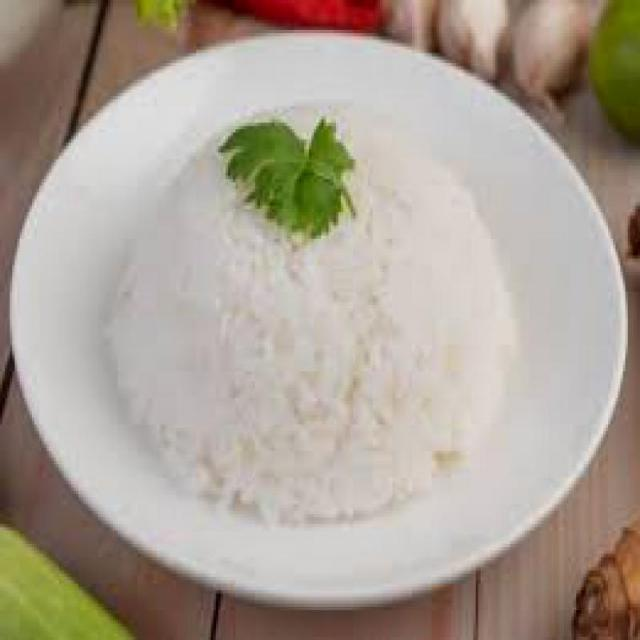Chicken -Chicken Inasal-: (108, 104, 516, 524)
